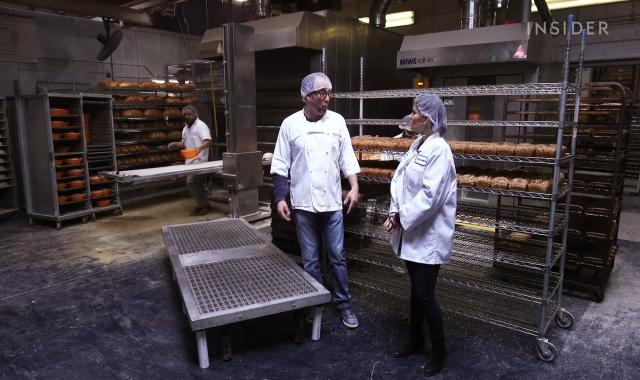hairnet: (417, 90, 449, 129), (298, 73, 333, 93), (180, 103, 198, 121)
